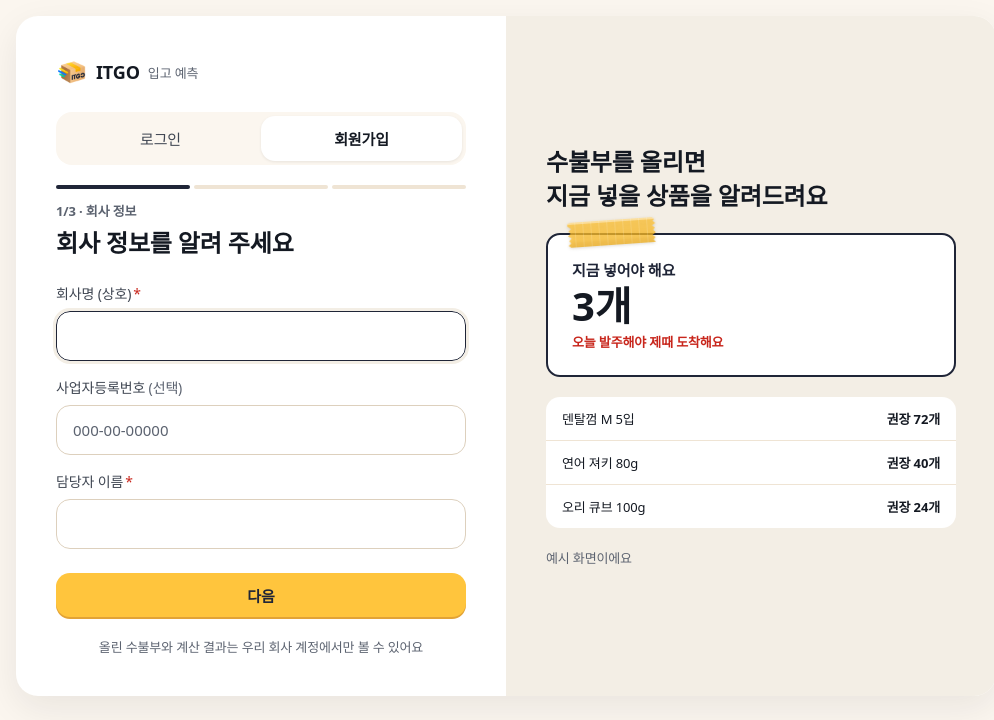
Test: SignUpPage › 이메일을 고치면 인증을 처음부터 다시 해야 한다
Type "다음스낵" into the field labelled "회사명 (상호)" at point(261, 336), box [56,311,466,361]
Type "김담당" into the field labelled "담당자 이름" at point(261, 524), box [56,499,466,549]
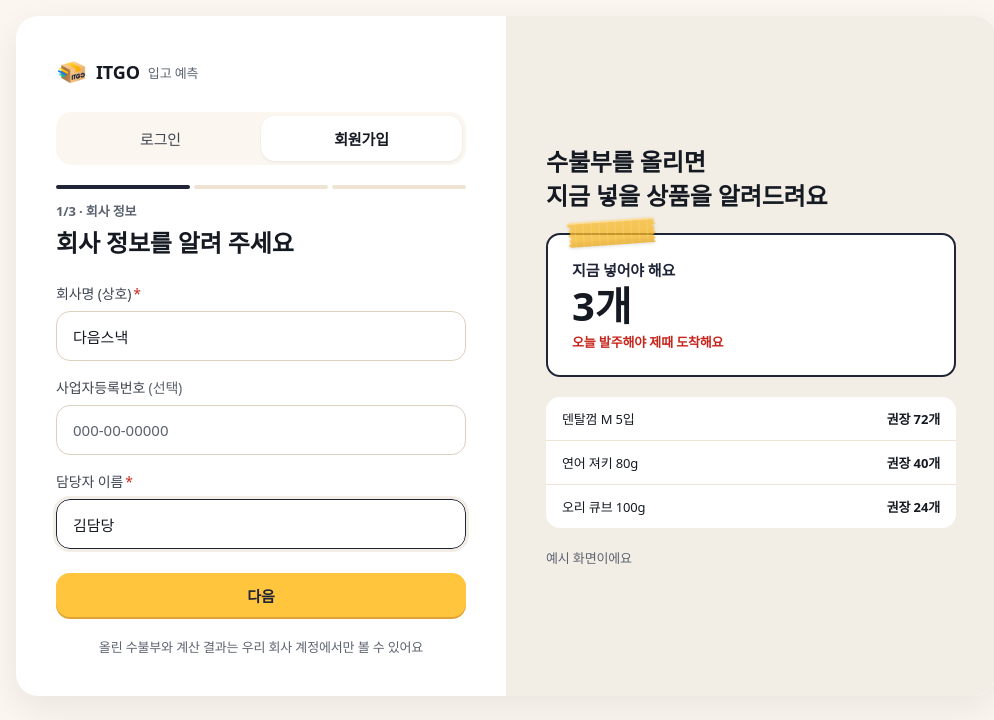
Click the button "다음" at point(261, 595), box [56,573,466,617]
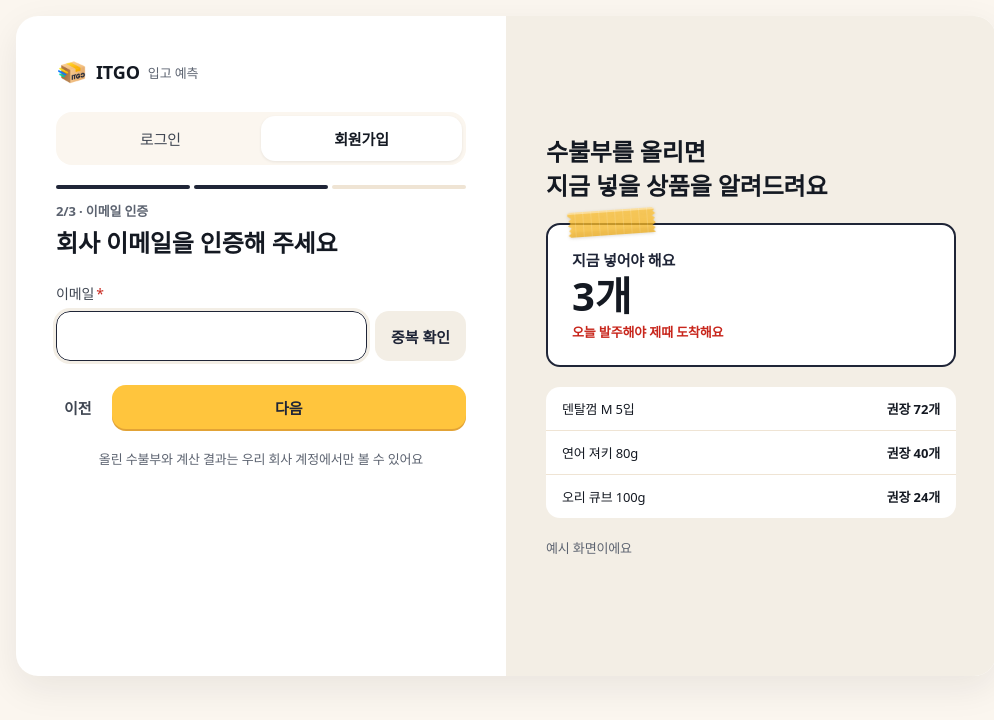
Type "new@b.com" into the field labelled "이메일" at point(211, 336), box [56,311,367,361]
Click the button "중복 확인" at point(420, 336), box [375,311,466,361]
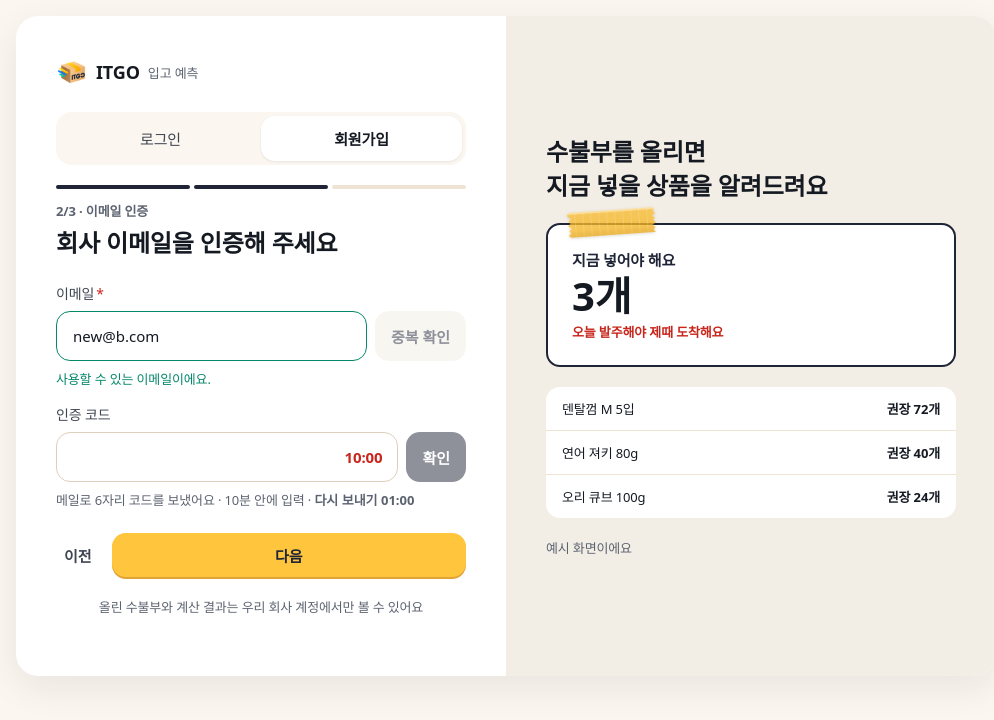
Type "482915" into the field labelled "인증 코드" at point(227, 457), box [56,432,398,482]
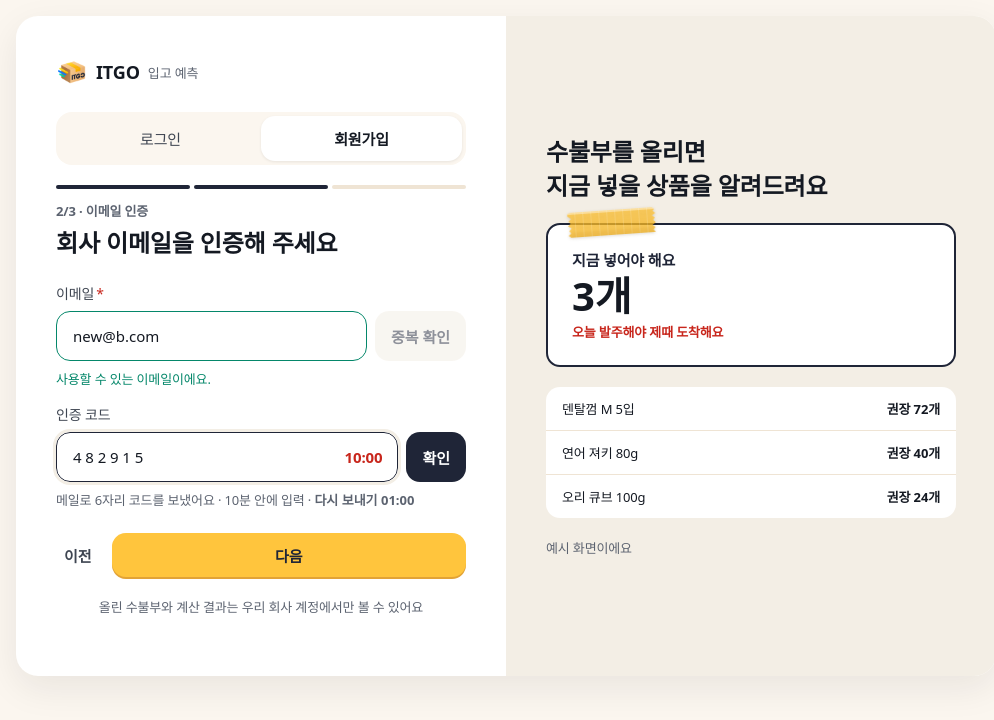
Click the button "확인" at point(436, 457), box [406,432,466,482]
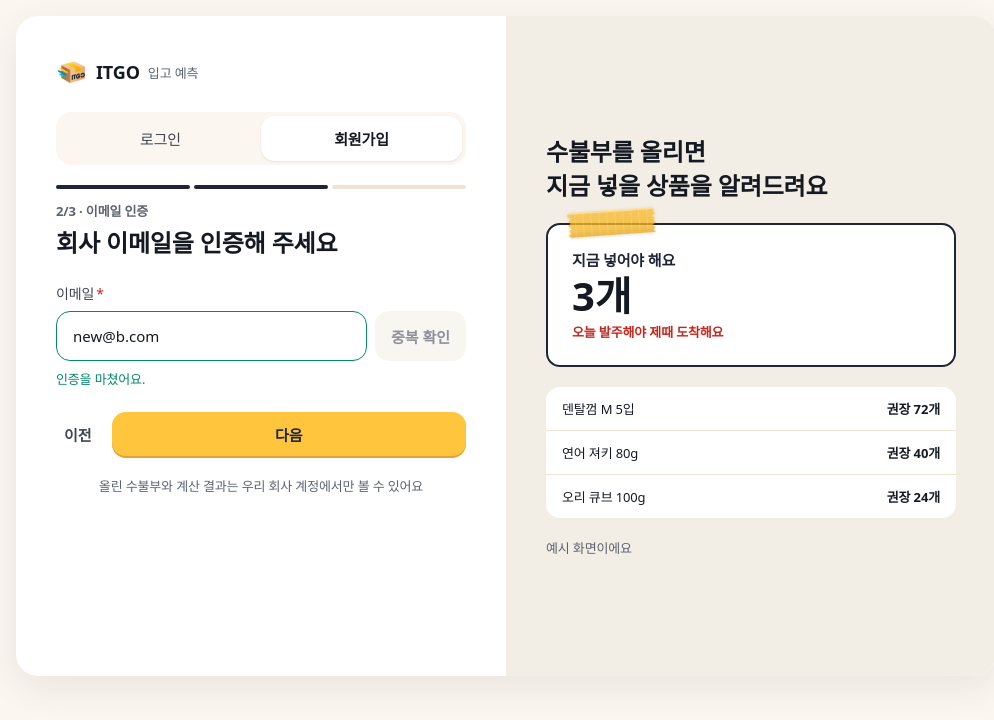
expect the text "인증을 마쳤어요." is shown: met, box [56,370,145,388]
Type "x" into the field labelled "이메일" at point(211, 336), box [56,311,367,361]
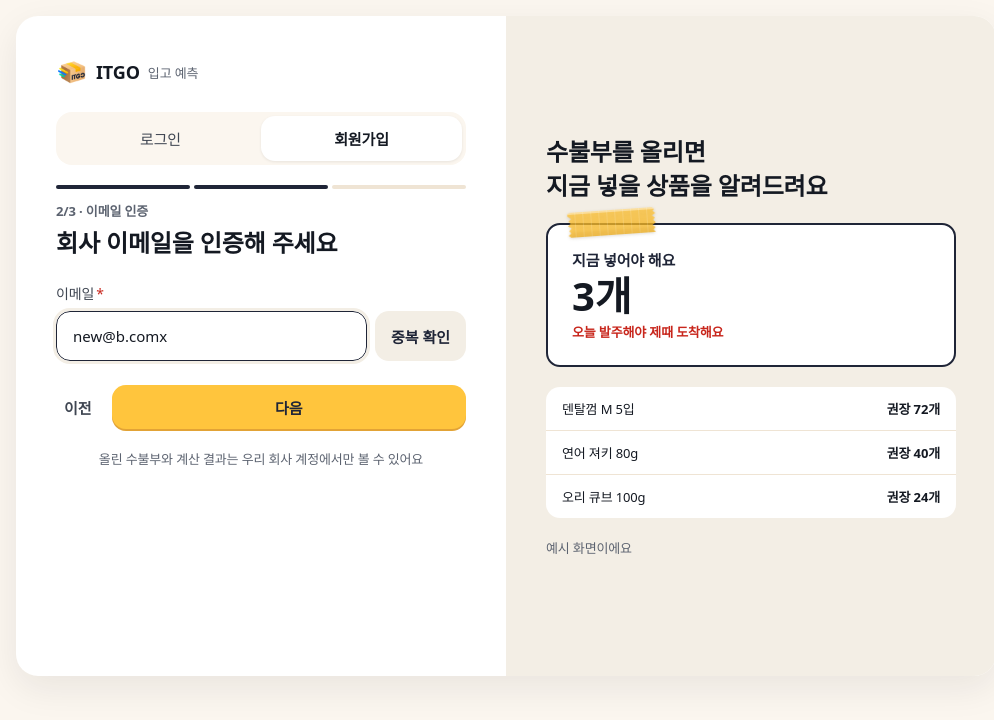
expect the button "중복 확인" is shown: met, box [375,311,466,361]
expect the text "인증을 마쳤어요." is gone: met
